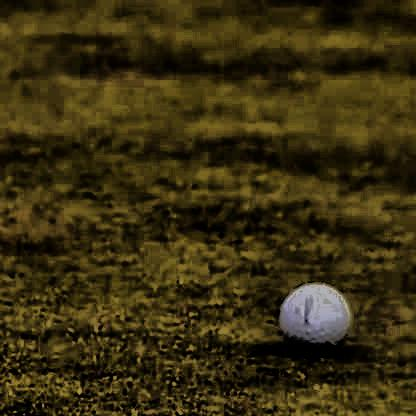golfball: (279, 278, 349, 349)
